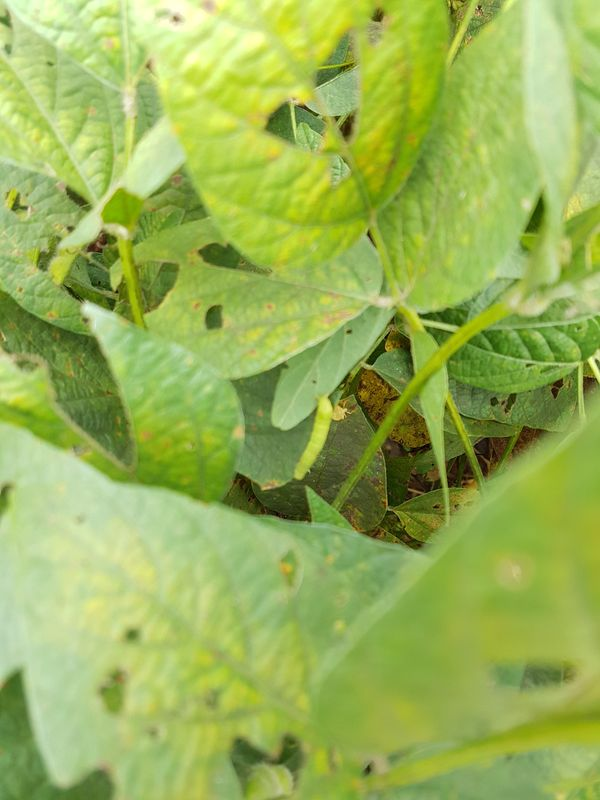Anticarsia_gemmatalis: (283, 381, 332, 487)
Euschistus_heros_ninfa: (332, 394, 362, 426)
